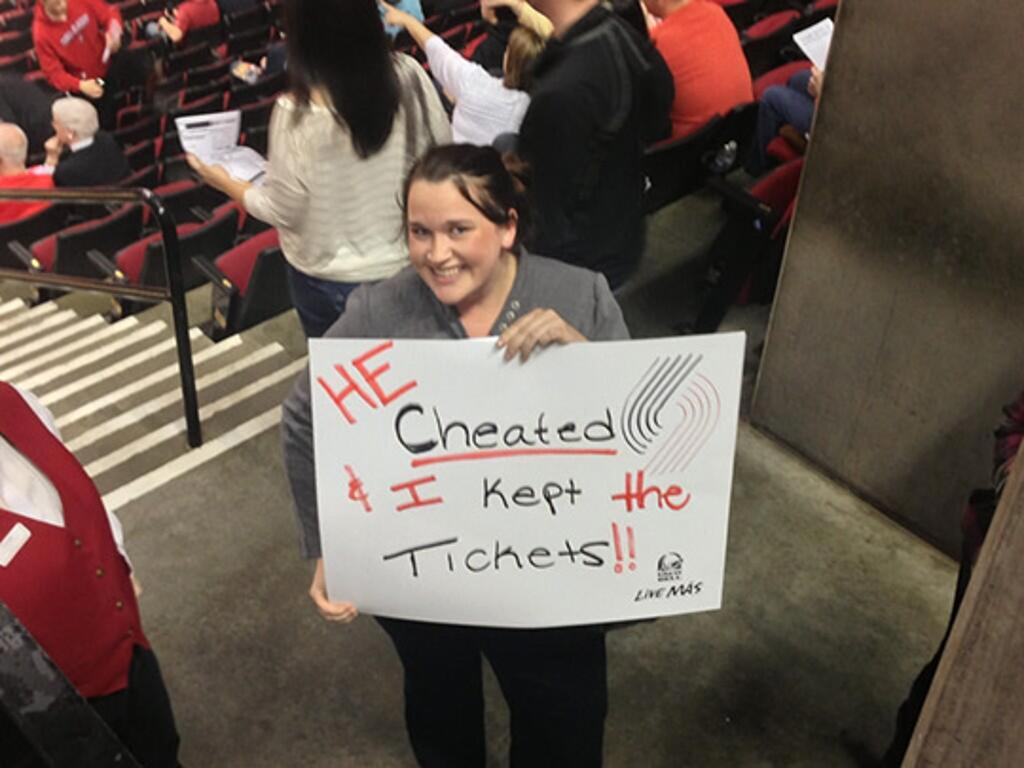face: (403, 185, 501, 305)
